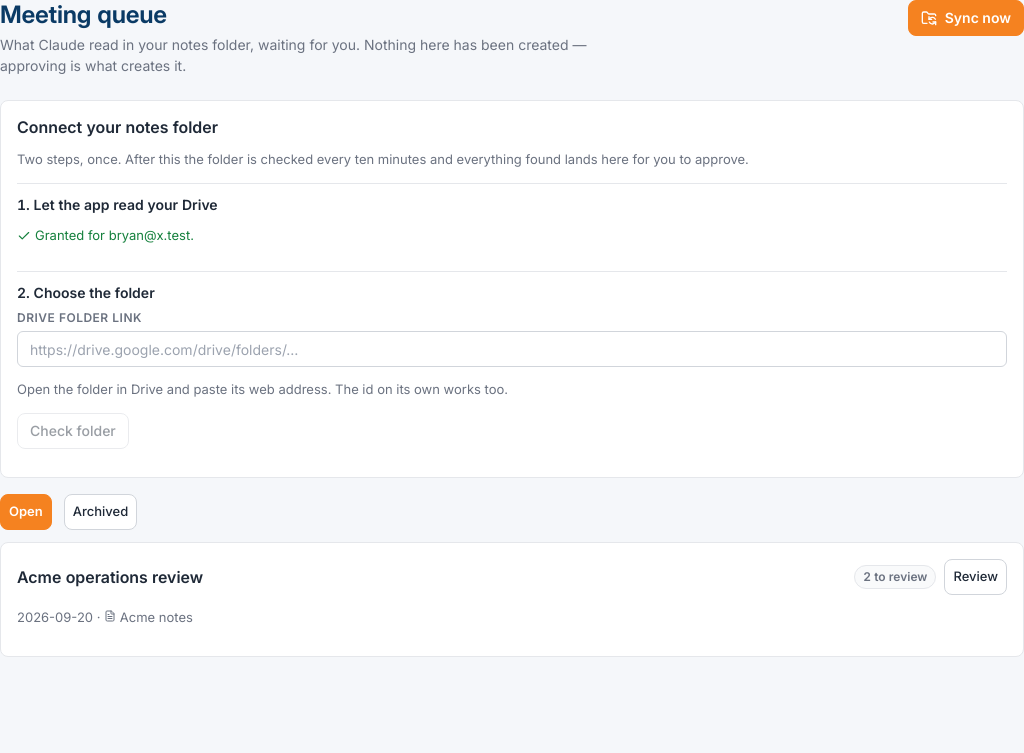
Test: connecting the notes folder › says so when the folder holds nothing it can read
Type "1AbCdEfGhIj" into the field named "Drive folder link". click: (512, 349)
box: [17,331,1007,367]
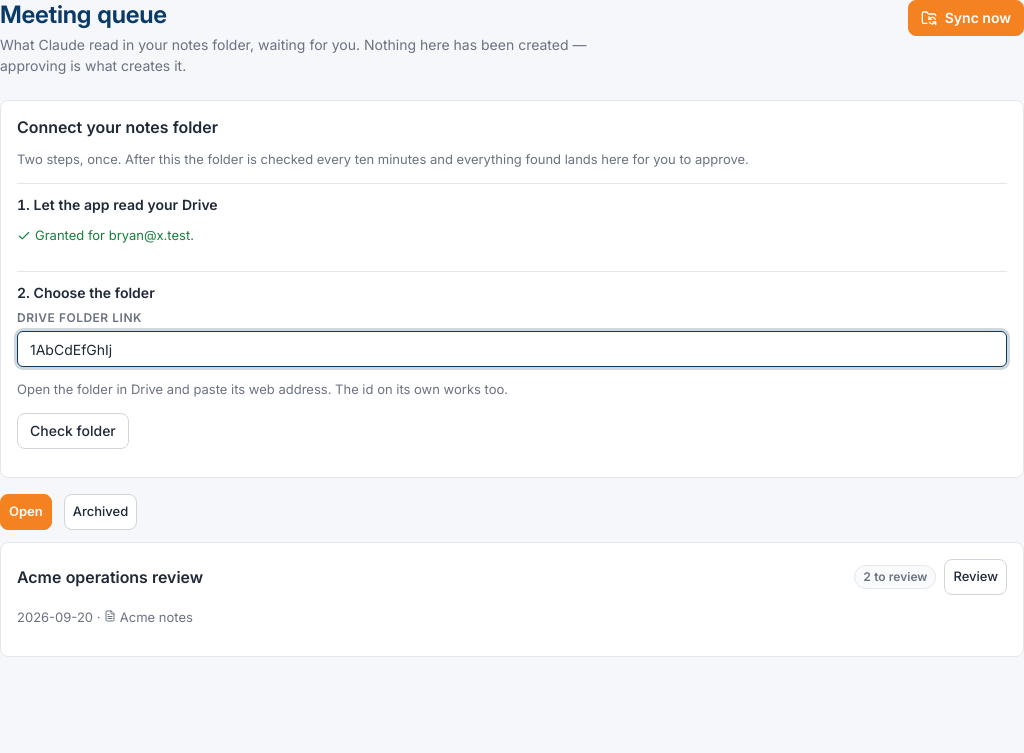
Click the button "Check folder". click: (73, 430)
box: [17,412,129,448]
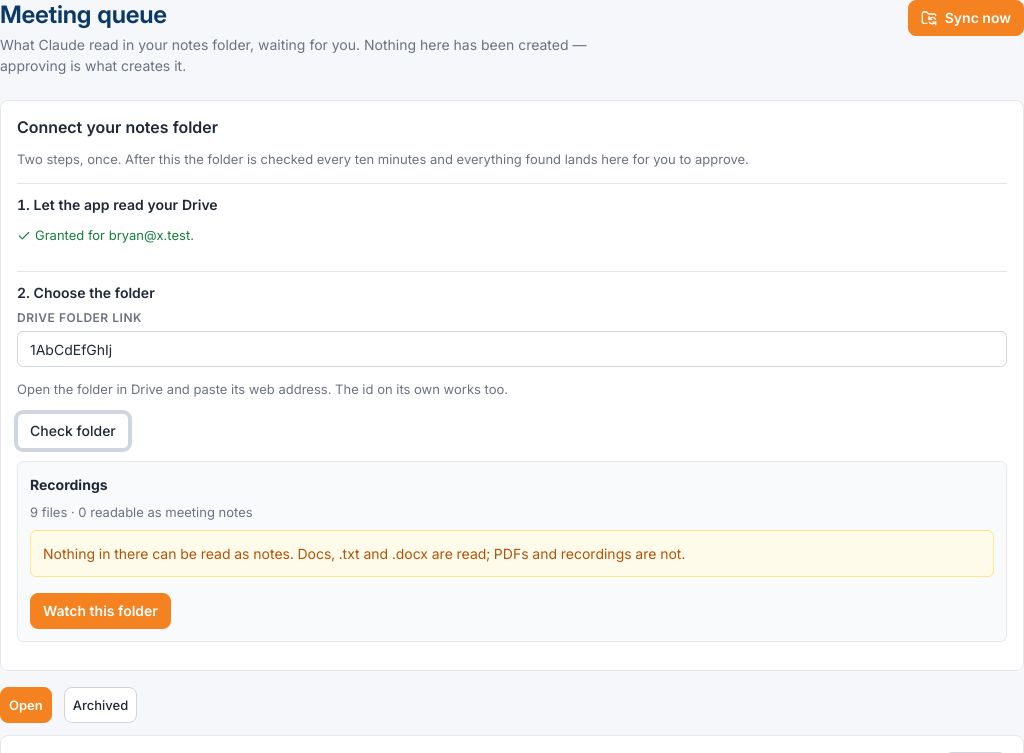
Now the text "Nothing in there can be read as notes" is shown, box [43,545,685,562]
